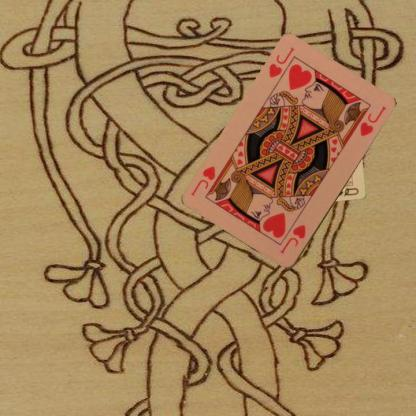Jh: (266, 44, 296, 80), (278, 222, 308, 255)
